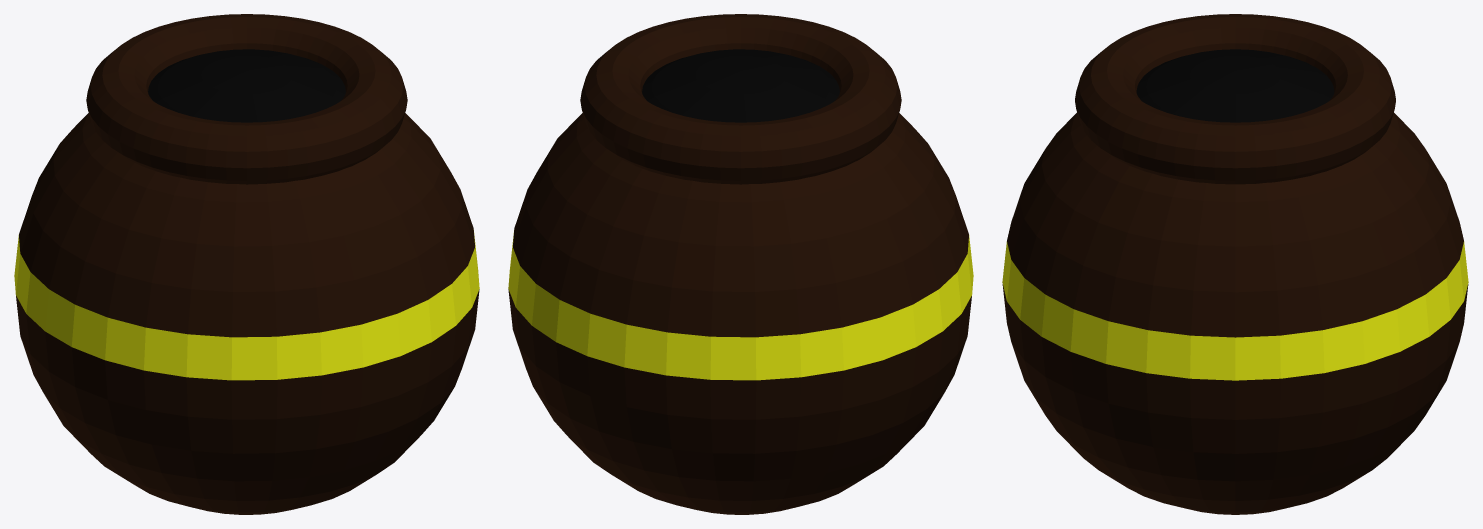
Rendered from Pot.obj.
The picture shows the model from 3 angles, left to right: view 1: azimuth 30°, elevation 25°; view 2: azimuth 150°, elevation 25°; view 3: azimuth 270°, elevation 25°; orthographic projection.
Parts seen in each view (by area): view 1: 球, トーラス; view 2: 球, トーラス; view 3: 球, トーラス.
Boxes of the visible parts, left/top/right/bottom form: 球: left=14, top=49, right=479, bottom=514; トーラス: left=86, top=14, right=407, bottom=184; 球: left=508, top=49, right=973, bottom=514; トーラス: left=580, top=14, right=901, bottom=184; 球: left=1002, top=49, right=1468, bottom=514; トーラス: left=1075, top=14, right=1395, bottom=184.
Size of the model in its own units: 0.8367 by 0.8367 by 0.8367.
